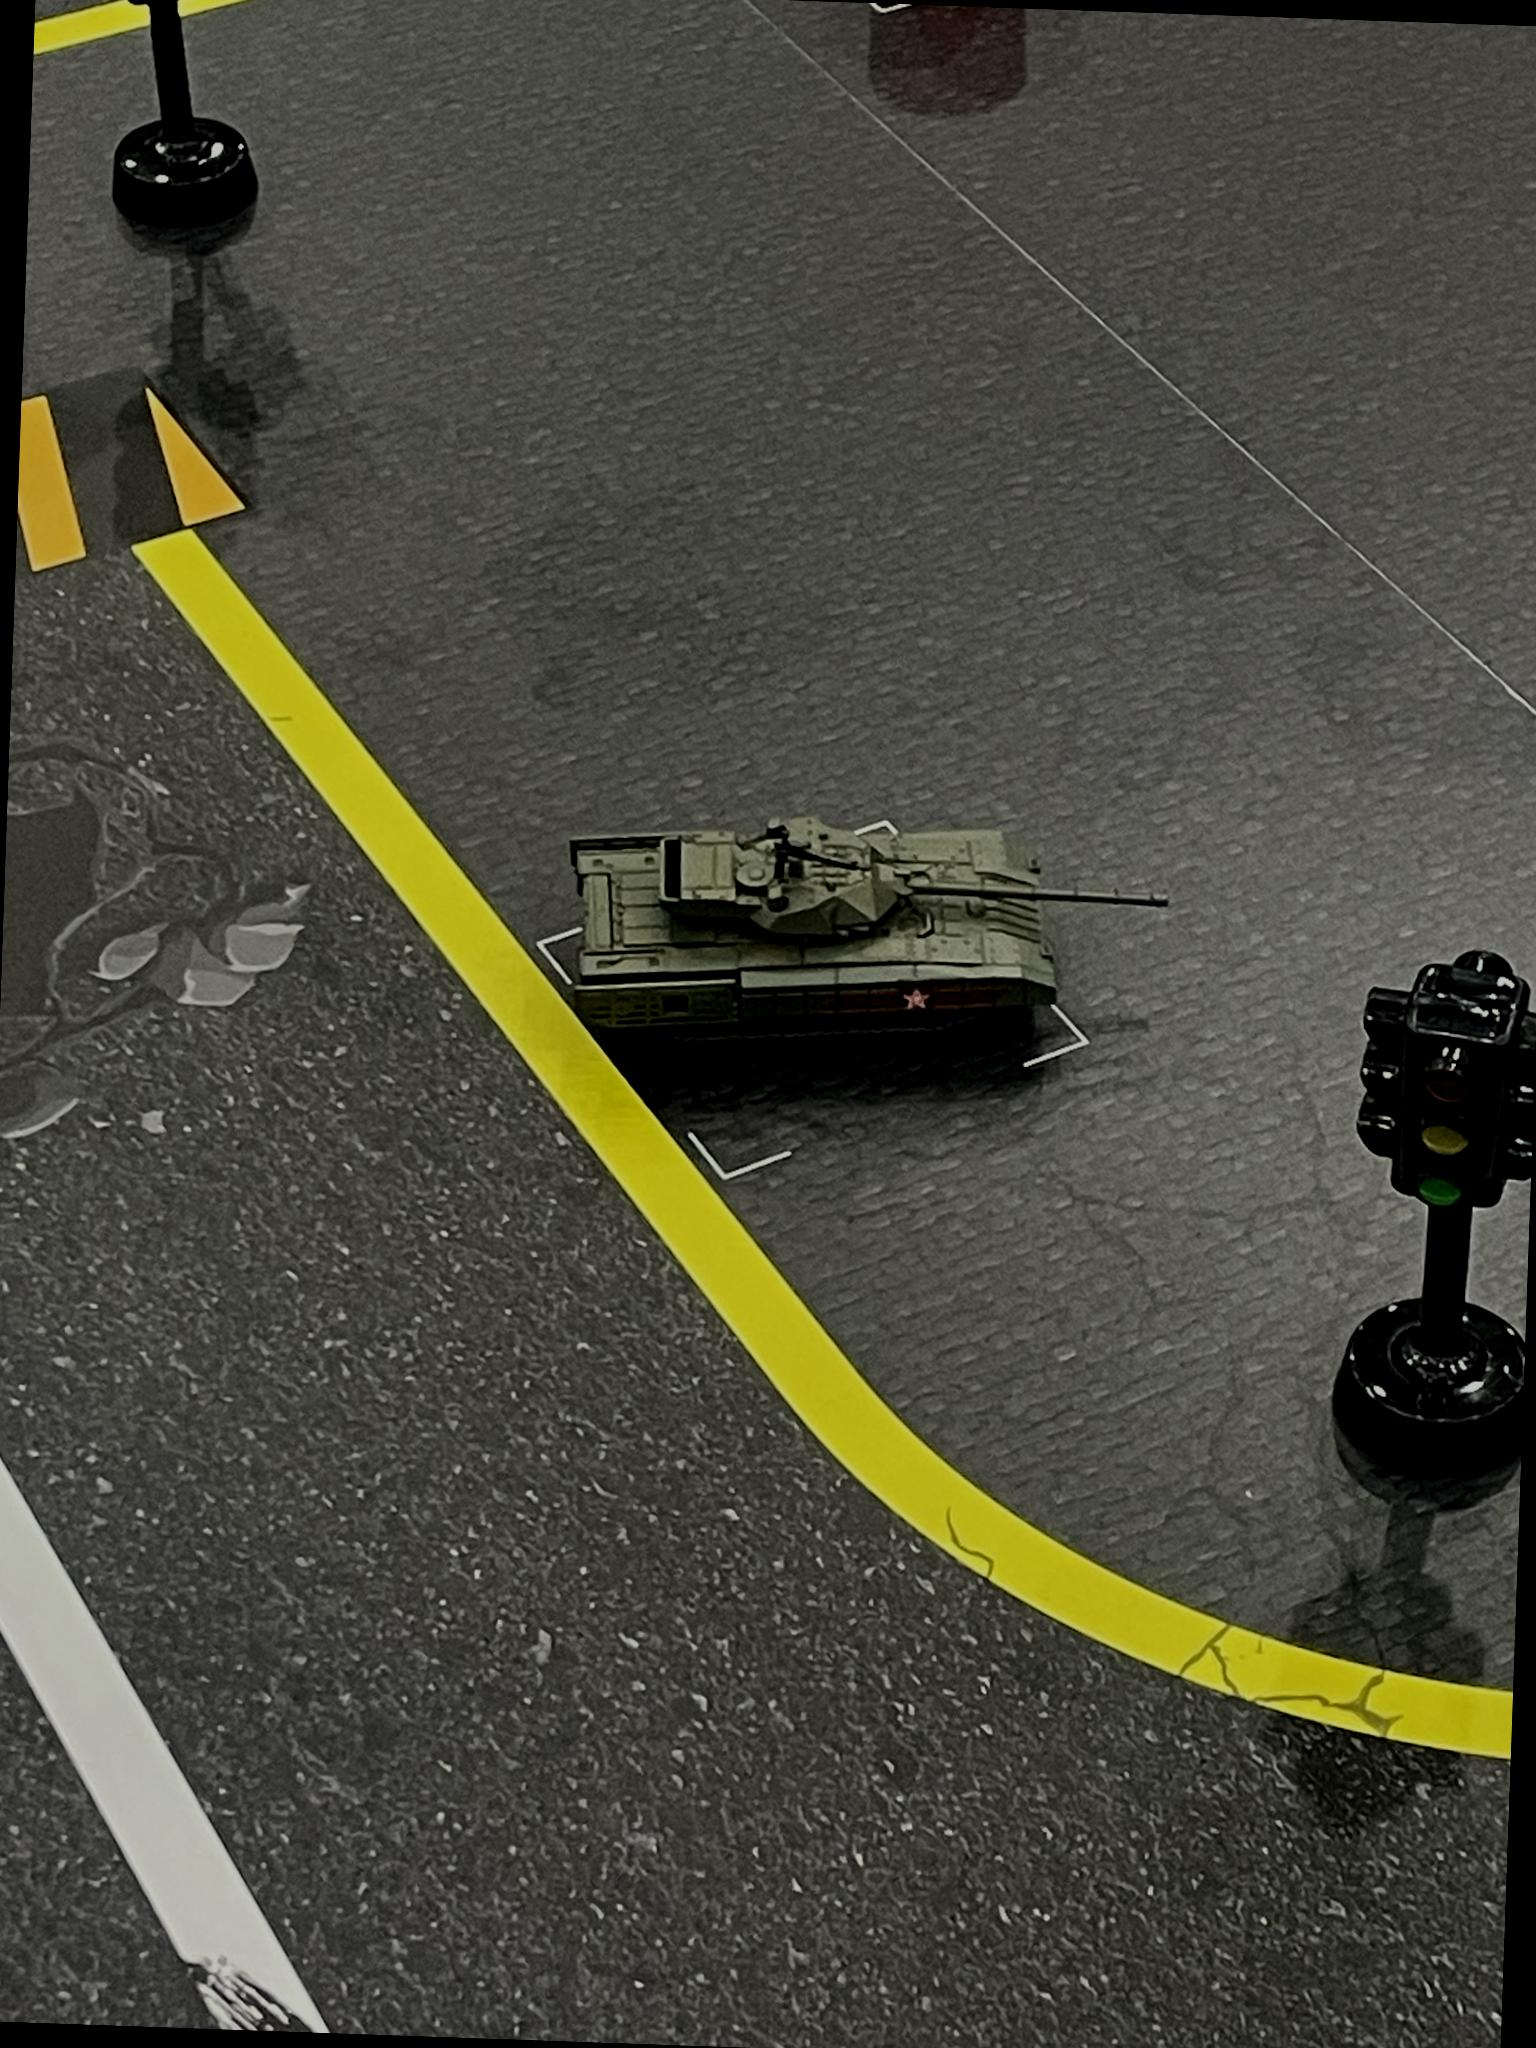Tank: (560, 813, 1181, 1066)
